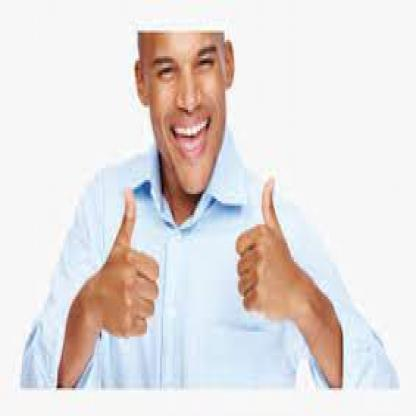thumb_up: (93, 183, 160, 339), (234, 173, 296, 322)
